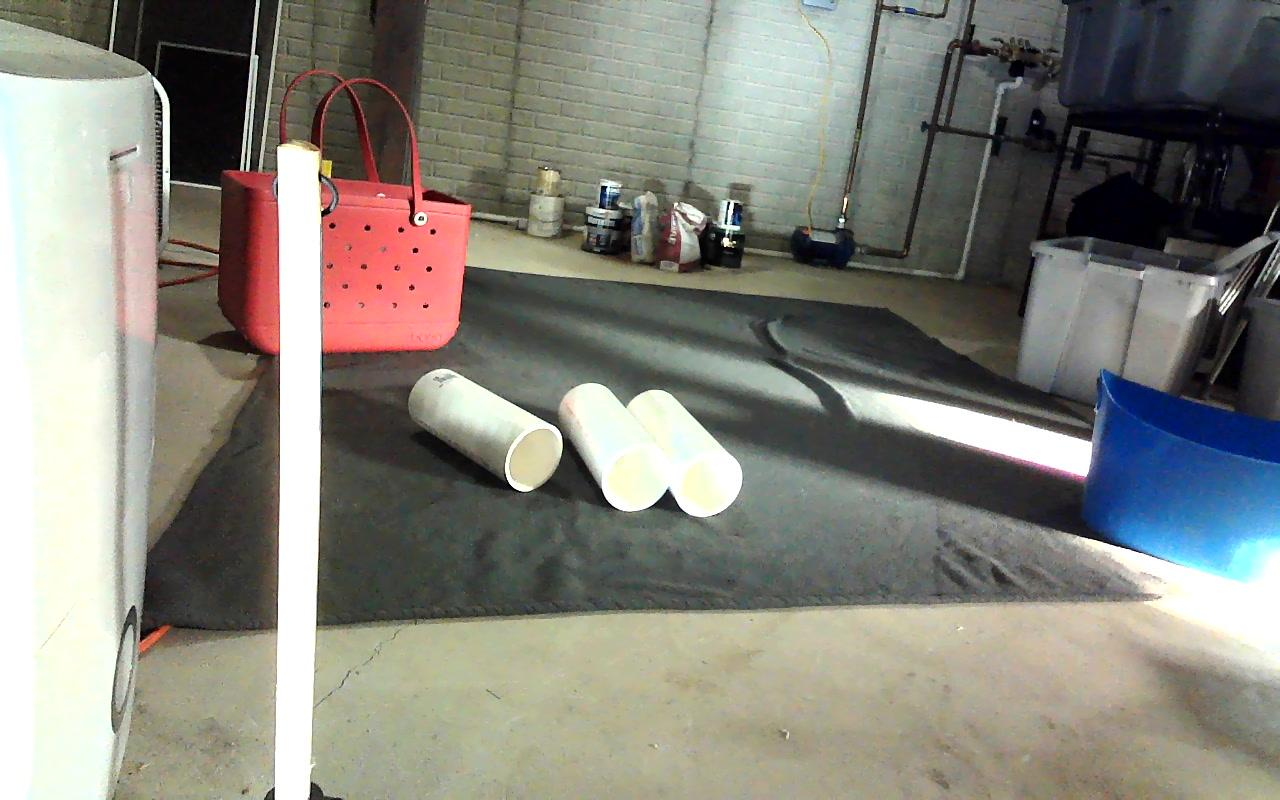coral: (408, 368, 565, 491), (558, 382, 669, 511), (630, 389, 741, 514)
